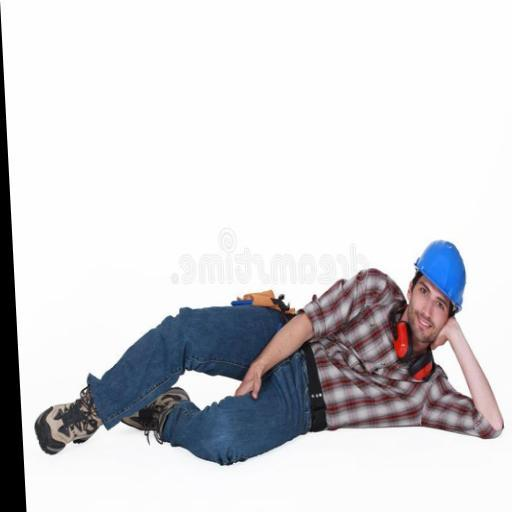safety_boots: (35, 396, 94, 464)
